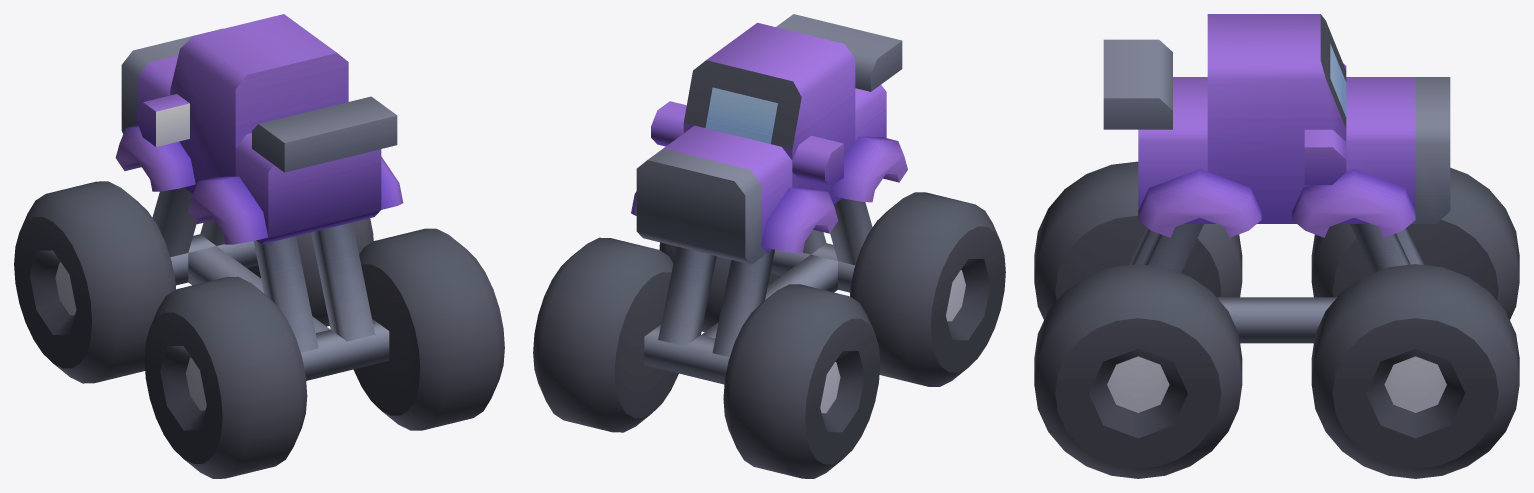
The model's file is vehicle-monster-truck.glb.
The picture shows the model from 3 angles, left to right: view 1: azimuth 30°, elevation 25°; view 2: azimuth 150°, elevation 25°; view 3: azimuth 270°, elevation 25°; orthographic projection. The views are drawn at different scales.
Parts seen in each view (by area): view 1: body, wheel-bl, wheel-fl, wheel-br, wheel-fr; view 2: body, wheel-fl, wheel-bl, wheel-fr, wheel-br; view 3: body, wheel-fr, wheel-br, wheel-bl, wheel-fl.
Part boxes in pixels (bbox=[...]): body: bbox=[115, 14, 403, 380]; wheel-bl: bbox=[144, 276, 307, 478]; wheel-fl: bbox=[14, 181, 175, 383]; wheel-br: bbox=[353, 228, 504, 430]; wheel-fr: bbox=[247, 218, 373, 326]; body: bbox=[631, 14, 907, 384]; wheel-fl: bbox=[723, 284, 880, 478]; wheel-bl: bbox=[850, 192, 1005, 386]; wheel-fr: bbox=[533, 237, 678, 432]; wheel-br: bbox=[659, 242, 780, 332]; body: bbox=[1103, 14, 1450, 343]; wheel-fr: bbox=[1311, 264, 1519, 478]; wheel-br: bbox=[1034, 264, 1242, 478]; wheel-bl: bbox=[1034, 161, 1242, 319]; wheel-fl: bbox=[1311, 167, 1519, 319].
Bounding box in the file's own units: 0.625 × 0.75 × 0.875.
Materials: 1 (1 with a texture image).
